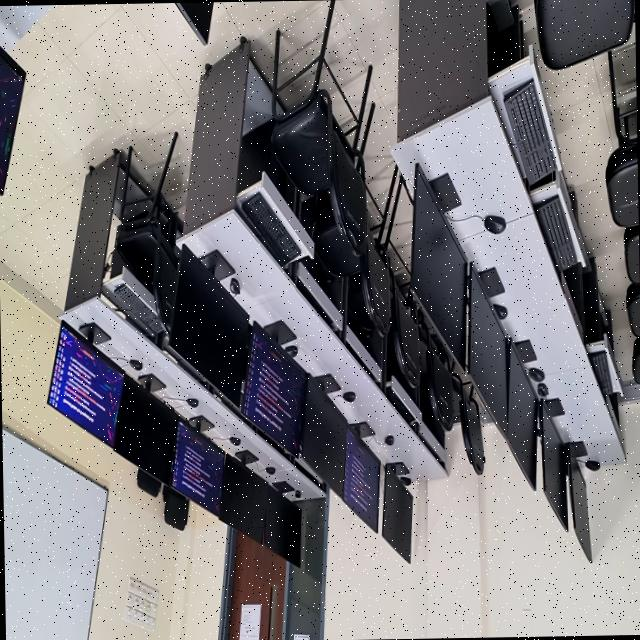Chair: (271, 0, 372, 256), (300, 166, 397, 337), (115, 133, 179, 337), (534, 0, 634, 70), (389, 269, 421, 387), (452, 375, 484, 475), (424, 328, 453, 431), (606, 145, 638, 226), (162, 486, 188, 530), (623, 225, 639, 283), (136, 467, 161, 497), (626, 284, 640, 335), (632, 338, 640, 383)
Keyboard: (503, 79, 557, 183), (241, 192, 300, 265), (534, 194, 579, 271), (113, 283, 163, 333), (589, 351, 612, 395)
Monitor: (168, 244, 248, 405), (409, 164, 470, 366), (47, 324, 123, 445), (242, 322, 306, 456), (111, 375, 178, 483), (468, 264, 507, 436), (300, 375, 348, 497), (172, 421, 224, 515), (505, 338, 537, 490), (217, 454, 267, 543), (343, 428, 380, 532), (538, 399, 567, 530), (0, 46, 25, 194), (263, 487, 301, 567), (381, 464, 412, 562), (568, 443, 591, 563), (174, 2, 213, 45)
Mouse: (483, 215, 506, 234), (229, 278, 240, 297), (494, 305, 507, 320), (585, 460, 600, 471), (537, 383, 548, 398), (285, 345, 297, 358), (129, 360, 142, 370), (342, 392, 355, 402), (379, 436, 393, 445), (186, 398, 198, 407), (229, 437, 240, 446), (265, 467, 275, 474), (295, 490, 300, 497)
